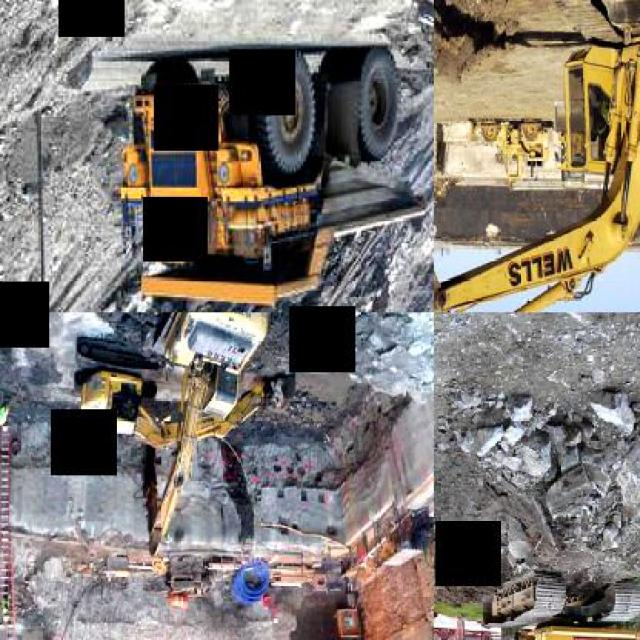dump_truck: (119, 26, 427, 306)
excavator: (434, 0, 638, 311), (142, 312, 269, 560), (434, 484, 638, 638), (72, 336, 297, 450)
